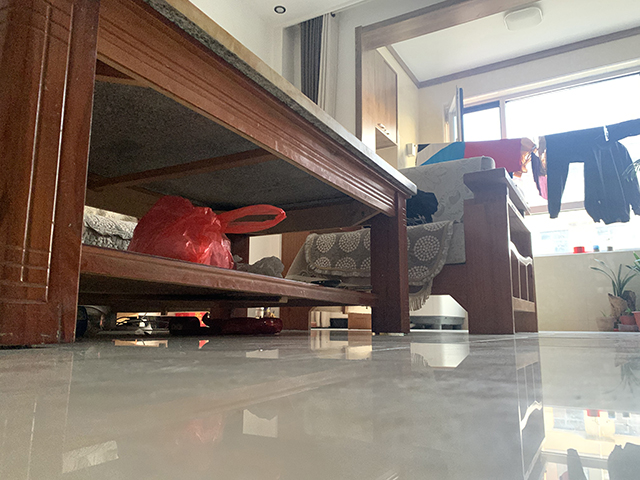sofa: (294, 155, 539, 335)
table: (1, 1, 418, 350)
